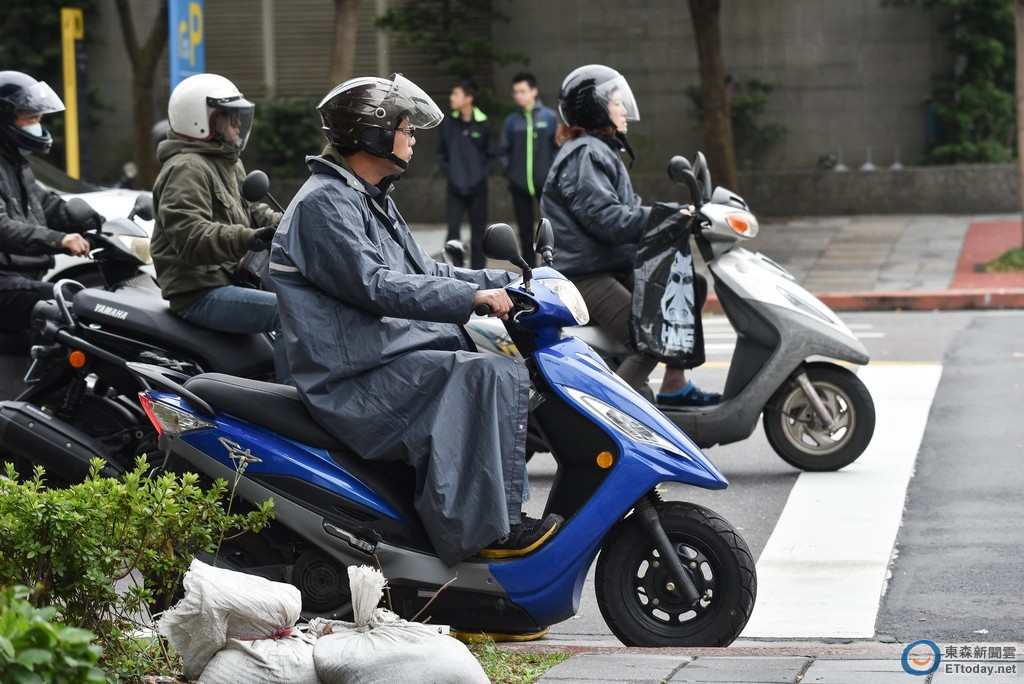helmet: (153, 65, 246, 139), (548, 73, 641, 133), (323, 78, 405, 143)
